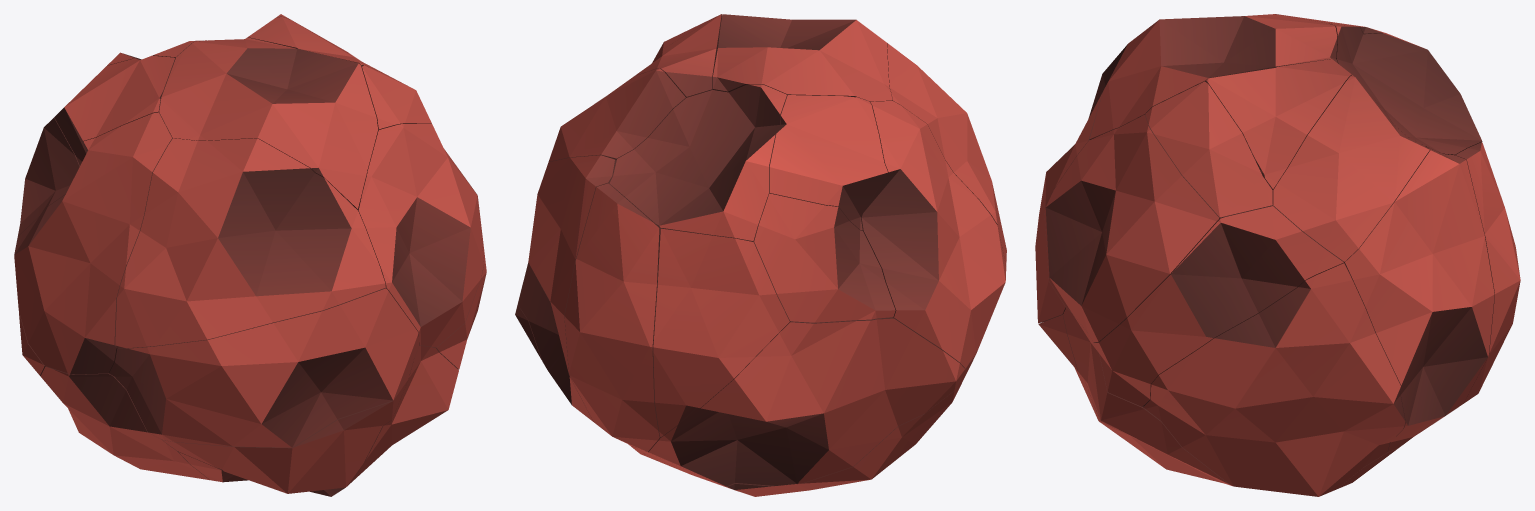
File: meteor1Fract.fbx
3 renders of one model, left to right at view 1: azimuth 30°, elevation 25°; view 2: azimuth 150°, elevation 25°; view 3: azimuth 270°, elevation 25°, orthographic. The views are drawn at different scales.
Parts seen in each view (by area): view 1: Icosphere.043_cell.014, Icosphere.043_cell.019, Icosphere.043_cell.018, Icosphere.043_cell.012, Icosphere.043_cell.005, Icosphere.043_cell.013, Icosphere.043_cell.011, Icosphere.043_cell.016, Icosphere.043_cell.007, Icosphere.043_cell.009, Icosphere.043_cell.002, Icosphere.043_cell.004 (+1 smaller); view 2: Icosphere.043_cell, Icosphere.043_cell.018, Icosphere.043_cell.008, Icosphere.043_cell.017, Icosphere.043_cell.010, Icosphere.043_cell.009, Icosphere.043_cell.012, Icosphere.043_cell.016, Icosphere.043_cell.006, Icosphere.043_cell.003, Icosphere.043_cell.014, Icosphere.043_cell.011 (+1 smaller); view 3: Icosphere.043_cell.001, Icosphere.043_cell.006, Icosphere.043_cell.005, Icosphere.043_cell.015, Icosphere.043_cell.003, Icosphere.043_cell.012, Icosphere.043_cell.017, Icosphere.043_cell.002, Icosphere.043_cell.004, Icosphere.043_cell.007, Icosphere.043_cell.008, Icosphere.043_cell.014 (+2 smaller).
Part boxes in pixels (<box>): Icosphere.043_cell.014: <box>115,138,385,348</box>; Icosphere.043_cell.019: <box>109,288,418,447</box>; Icosphere.043_cell.018: <box>14,112,172,374</box>; Icosphere.043_cell.012: <box>159,37,378,209</box>; Icosphere.043_cell.005: <box>358,124,483,347</box>; Icosphere.043_cell.013: <box>162,360,413,493</box>; Icosphere.043_cell.011: <box>40,366,209,480</box>; Icosphere.043_cell.016: <box>54,55,175,165</box>; Icosphere.043_cell.007: <box>178,345,458,496</box>; Icosphere.043_cell.009: <box>18,117,79,236</box>; Icosphere.043_cell.002: <box>361,65,431,130</box>; Icosphere.043_cell.004: <box>248,16,382,72</box>; Icosphere.043_cell: <box>647,317,965,486</box>; Icosphere.043_cell.018: <box>861,101,1006,368</box>; Icosphere.043_cell.008: <box>564,183,660,451</box>; Icosphere.043_cell.017: <box>609,84,787,241</box>; Icosphere.043_cell.010: <box>653,228,789,437</box>; Icosphere.043_cell.009: <box>754,193,895,322</box>; Icosphere.043_cell.012: <box>713,14,892,101</box>; Icosphere.043_cell.016: <box>769,95,887,230</box>; Icosphere.043_cell.006: <box>517,155,635,447</box>; Icosphere.043_cell.003: <box>548,68,685,161</box>; Icosphere.043_cell.014: <box>887,43,1006,266</box>; Icosphere.043_cell.011: <box>631,351,977,496</box>; Icosphere.043_cell.001: <box>1143,263,1405,496</box>; Icosphere.043_cell.006: <box>1343,147,1494,451</box>; Icosphere.043_cell.005: <box>1044,114,1219,342</box>; Icosphere.043_cell.015: <box>1094,204,1343,406</box>; Icosphere.043_cell.003: <box>1272,75,1429,261</box>; Icosphere.043_cell.012: <box>1089,14,1337,139</box>; Icosphere.043_cell.017: <box>1329,23,1482,155</box>; Icosphere.043_cell.002: <box>1145,81,1272,217</box>; Icosphere.043_cell.004: <box>1206,59,1351,192</box>; Icosphere.043_cell.007: <box>1063,308,1393,488</box>; Icosphere.043_cell.008: <box>1455,142,1520,403</box>; Icosphere.043_cell.014: <box>1043,32,1142,206</box>.
Size of the model in its own units: 144 by 142 by 144.
